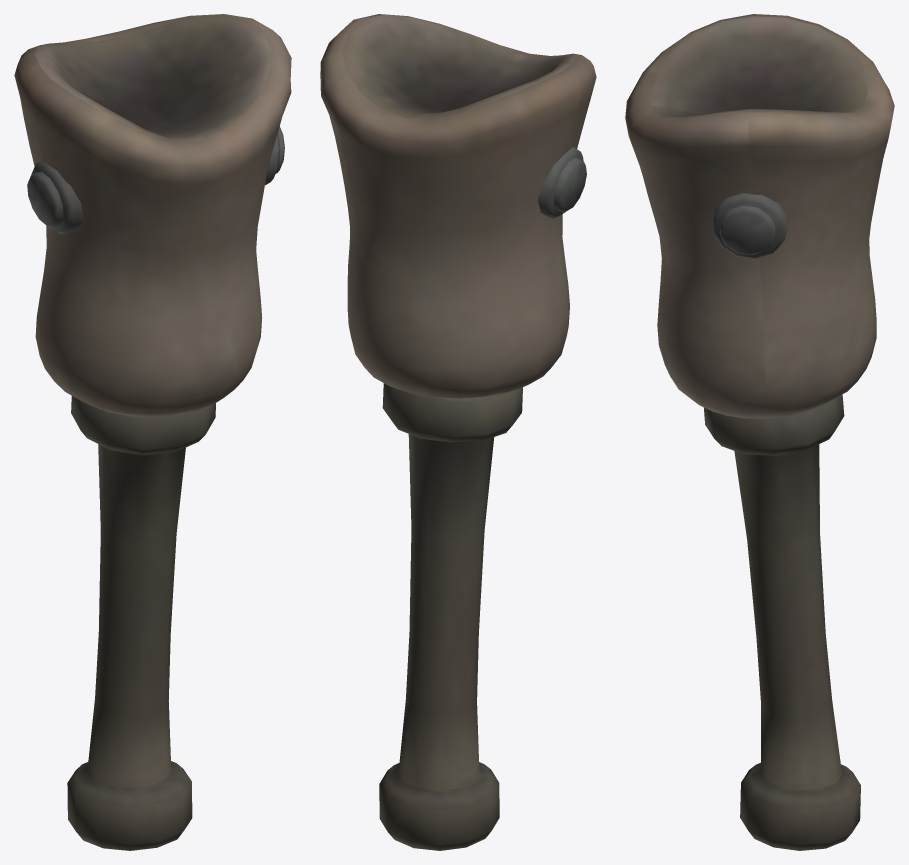
The model's file is Hook.fbx.
The picture shows the model from 3 angles, left to right: view 1: azimuth 30°, elevation 25°; view 2: azimuth 150°, elevation 25°; view 3: azimuth 270°, elevation 25°; orthographic projection. The views are drawn at different scales.
Parts seen in each view (by area): view 1: Hook; view 2: Hook; view 3: Hook.
Boxes of the visible parts, x1,y1,x2,y2 form: Hook: (14, 14, 291, 850); Hook: (320, 14, 596, 850); Hook: (625, 14, 894, 850).
Size of the model in its own units: 27.73 by 85.75 by 27.3.
